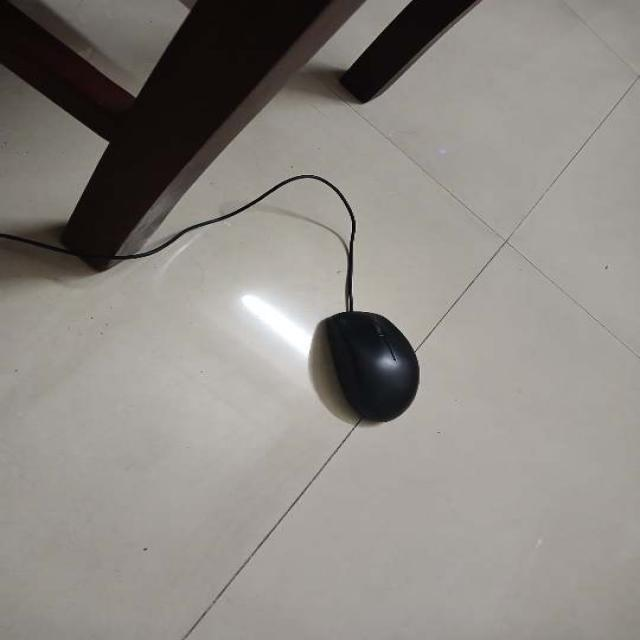mouse: (312, 310, 437, 425)
